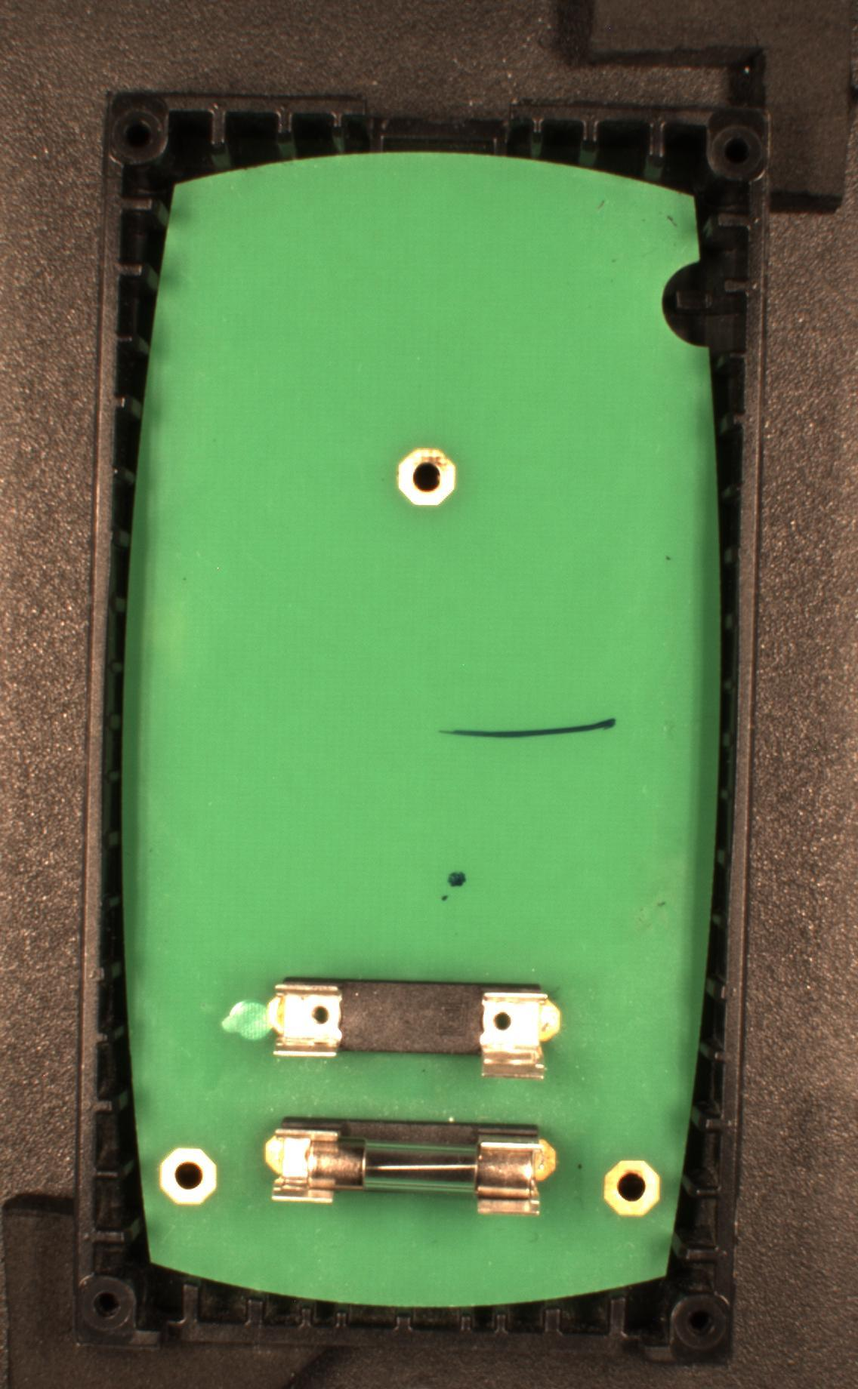Linijsko Ostecene: (437, 714, 617, 740)
Nepostojanje osiguraca: (265, 975, 563, 1082)
Tockasto Ostecenje: (439, 870, 467, 901)
